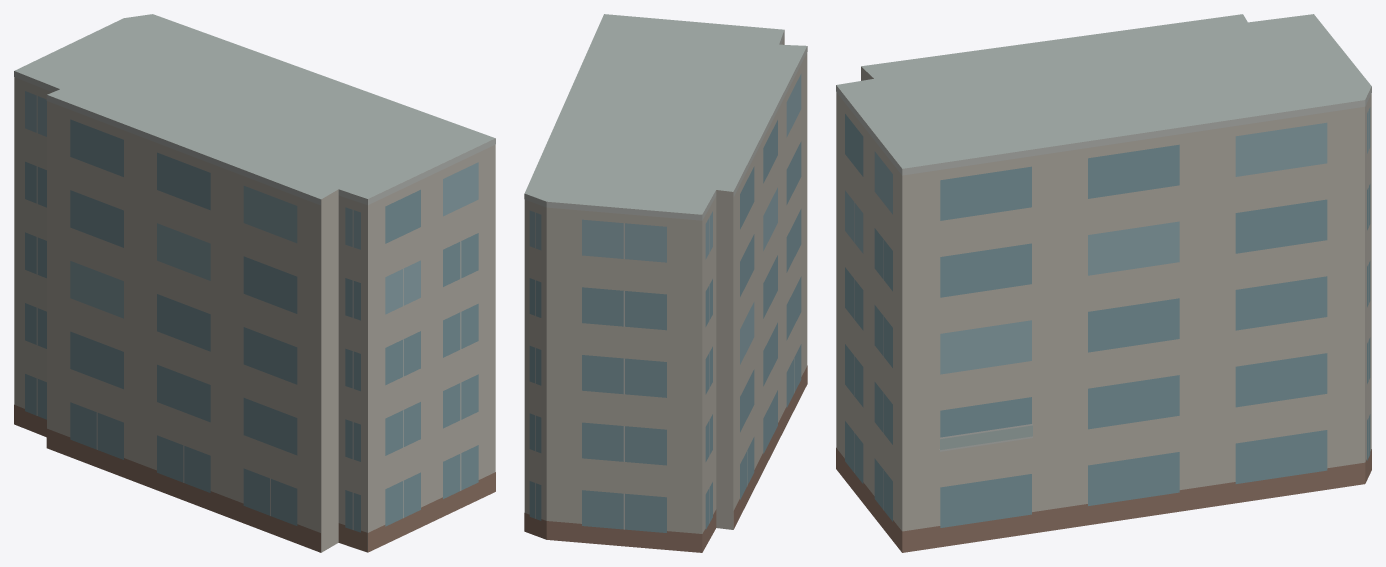
The model's file is survey-upis-32767098.glb.
3 renders of one model, left to right at view 1: azimuth 30°, elevation 25°; view 2: azimuth 150°, elevation 25°; view 3: azimuth 270°, elevation 25°, orthographic. The views are drawn at different scales.
Visible parts, largest first — view 1: survey-upis-32767098.tmp; view 2: survey-upis-32767098.tmp; view 3: survey-upis-32767098.tmp.
Part boxes in pixels (box(x1,y1,x2,y2)): survey-upis-32767098.tmp: box(14, 14, 495, 552); survey-upis-32767098.tmp: box(524, 14, 807, 552); survey-upis-32767098.tmp: box(836, 14, 1371, 552).
Bounding box in the file's own units: 12.12 × 14 × 17.7.
